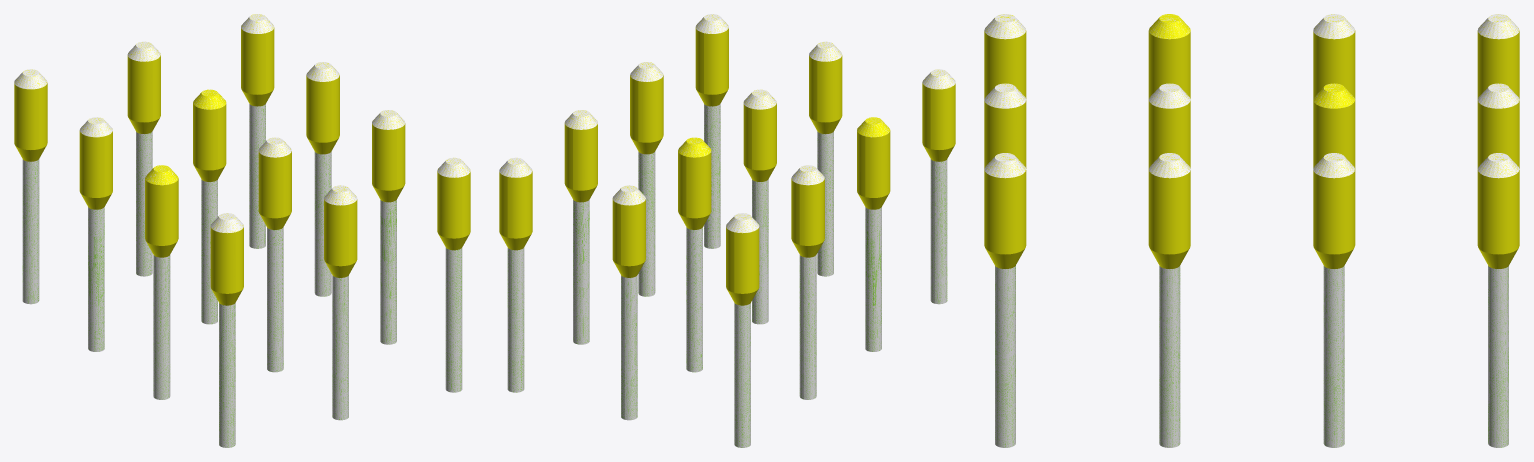
File: field.dae
3 renders of one model, left to right at view 1: azimuth 30°, elevation 25°; view 2: azimuth 150°, elevation 25°; view 3: azimuth 270°, elevation 25°, orthographic. The views are drawn at different scales.
Parts seen in each view (by area): view 1: SketchUp (×24); view 2: SketchUp (×24); view 3: SketchUp (×16).
Part boxes in pixels (x1=…): SketchUp (×24): x1=14, y1=14, x2=470, y2=447; SketchUp (×24): x1=499, y1=14, x2=955, y2=447; SketchUp (×16): x1=984, y1=14, x2=1519, y2=447.
Size of the model in its own units: 55.49 by 80.09 by 47.24.
